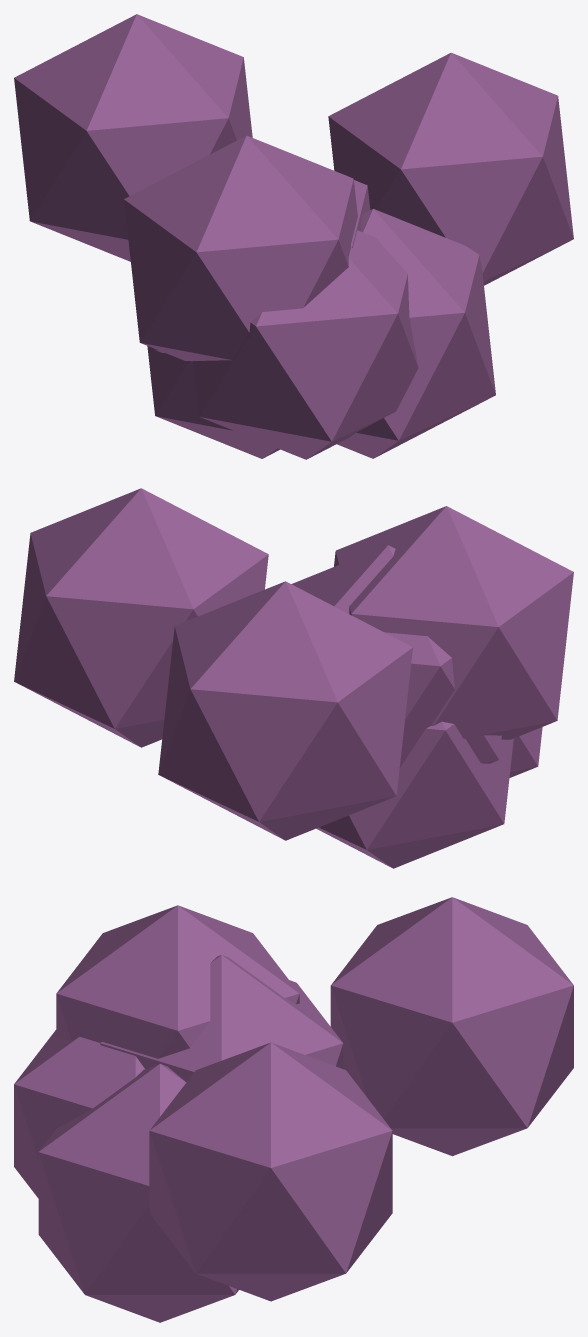
Rendered from item_mulberry.glb.
3 views of the same model, one above another, from view 1: azimuth 30°, elevation 25°; view 2: azimuth 150°, elevation 25°; view 3: azimuth 270°, elevation 25° (orthographic). The views are drawn at different scales.
Parts seen in each view (by area): view 1: item_mulberry; view 2: item_mulberry; view 3: item_mulberry.
Boxes of the visible parts, x1,y1,x2,y2 form: item_mulberry: (14, 14, 573, 459); item_mulberry: (14, 488, 573, 868); item_mulberry: (14, 897, 573, 1322).
Bounding box in the file's own units: 0.2131 × 0.1603 × 0.2154.
